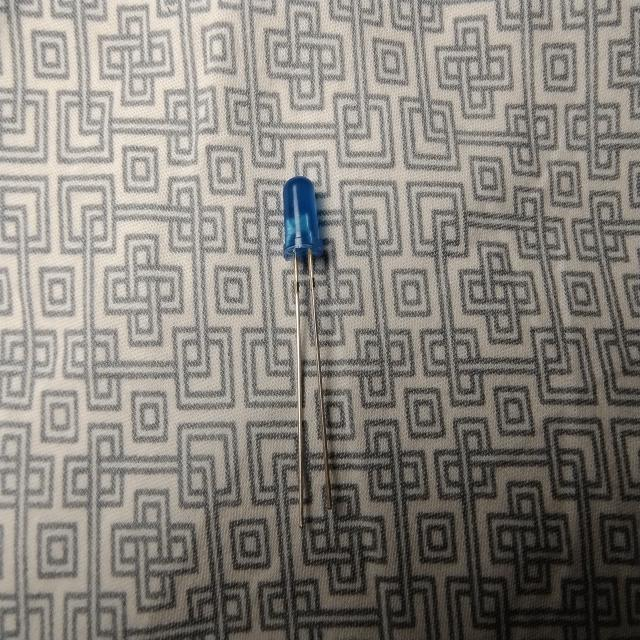blue_led: (282, 175, 323, 261)
